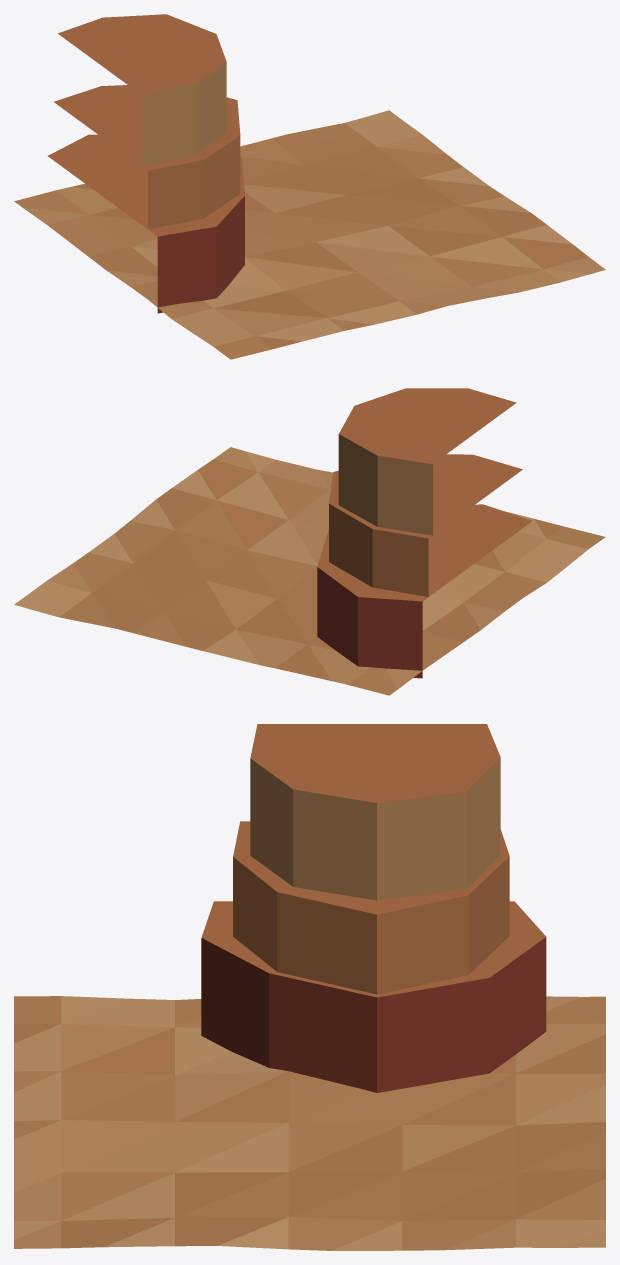
The picture shows the model from 3 angles, top to bottom: view 1: azimuth 30°, elevation 25°; view 2: azimuth 150°, elevation 25°; view 3: azimuth 270°, elevation 25°; orthographic projection. The views are drawn at different scales.
Visible parts, largest first — view 1: baked; view 2: baked; view 3: baked.
Boxes of the visible parts, x1=… form: baked: x1=14, y1=14, x2=605, y2=359; baked: x1=14, y1=388, x2=605, y2=695; baked: x1=14, y1=724, x2=605, y2=1250.
Bounding box in the file's own units: 62.5 × 32.92 × 62.5.
